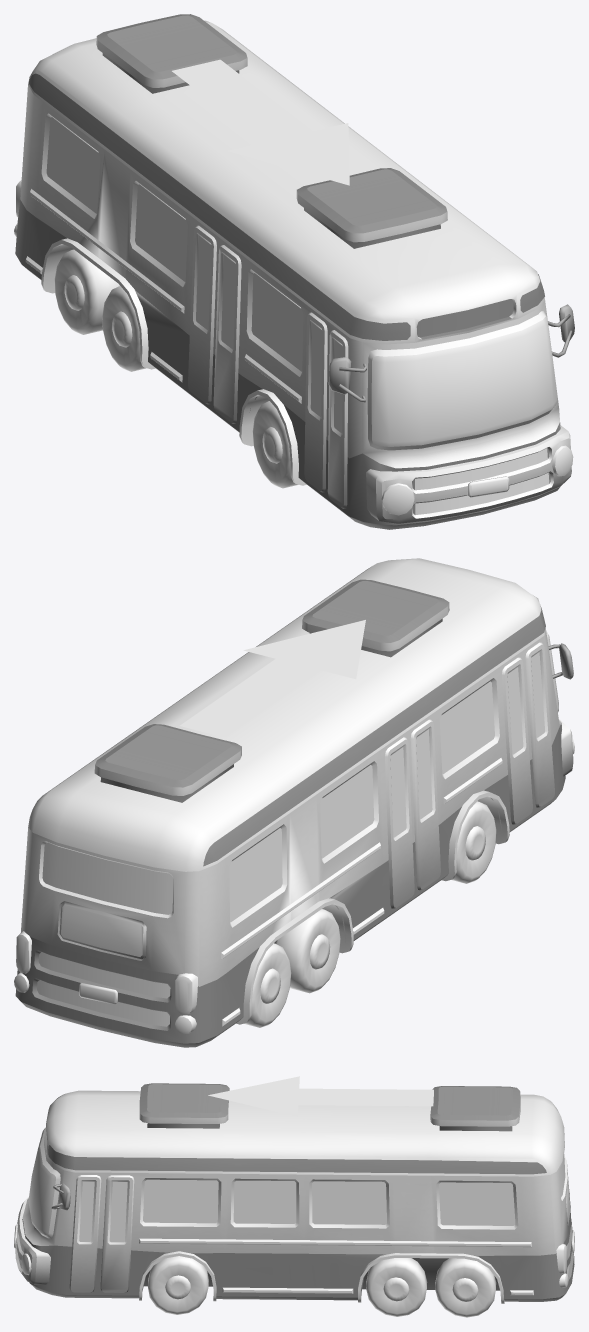
File: Bus_1.fbx
3 renders of one model, top to bottom at view 1: azimuth 30°, elevation 25°; view 2: azimuth 150°, elevation 25°; view 3: azimuth 270°, elevation 25°, orthographic. The views are drawn at different scales.
Visible parts, largest first — view 1: Bus_roof__Removable__color, Bus_body_color, windows, Bus_additional_stuff, Arrow, Wheel_R_R, Wheel_F_R, Wheel_M_R; view 2: Bus_roof__Removable__color, Bus_body_color, windows, Bus_additional_stuff, Arrow, Wheel_M_R, Wheel_F_R, Wheel_R_R; view 3: Bus_roof__Removable__color, Bus_body_color, windows, Bus_additional_stuff, Arrow, Wheel_M_L, Wheel_R_L, Wheel_F_L.
Part boxes in pixels (bbox=[...]): Bus_roof__Removable__color: bbox=[28, 14, 544, 344]; Bus_body_color: bbox=[15, 85, 574, 529]; windows: bbox=[41, 113, 557, 450]; Bus_additional_stuff: bbox=[14, 180, 573, 515]; Arrow: bbox=[172, 59, 349, 185]; Wheel_R_R: bbox=[54, 249, 119, 334]; Wheel_F_R: bbox=[252, 401, 298, 488]; Wheel_M_R: bbox=[102, 286, 145, 371]; Bus_roof__Removable__color: bbox=[28, 558, 545, 871]; Bus_body_color: bbox=[15, 630, 573, 1047]; windows: bbox=[39, 631, 558, 927]; Bus_additional_stuff: bbox=[14, 738, 574, 1034]; Arrow: bbox=[180, 620, 365, 737]; Wheel_M_R: bbox=[275, 909, 340, 993]; Wheel_F_R: bbox=[451, 801, 496, 883]; Wheel_R_R: bbox=[244, 943, 291, 1027]; Bus_roof__Removable__color: bbox=[44, 1083, 564, 1176]; Bus_body_color: bbox=[15, 1133, 574, 1301]; windows: bbox=[28, 1127, 567, 1244]; Bus_additional_stuff: bbox=[14, 1191, 574, 1303]; Arrow: bbox=[208, 1076, 433, 1116]; Wheel_M_L: bbox=[366, 1258, 427, 1316]; Wheel_R_L: bbox=[435, 1258, 496, 1317]; Wheel_F_L: bbox=[148, 1256, 208, 1314].
Bounding box in the file's own units: 124 × 129 × 356.
Materials: 2 (1 with a texture image).
